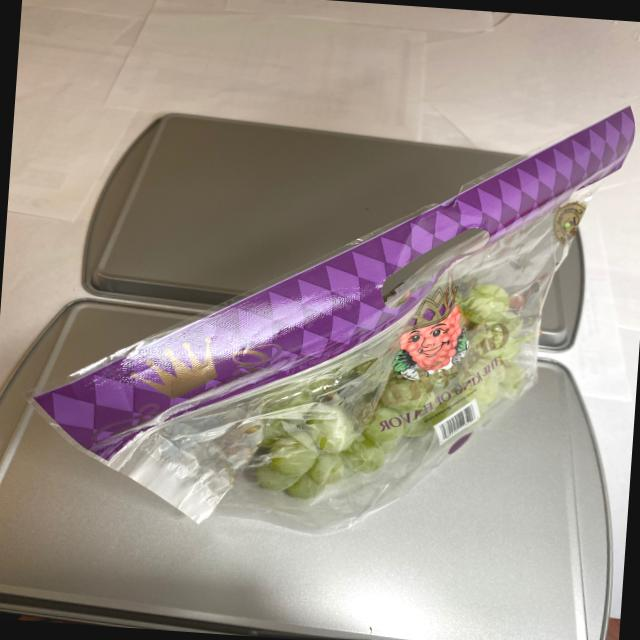grapes: (214, 254, 532, 515)
